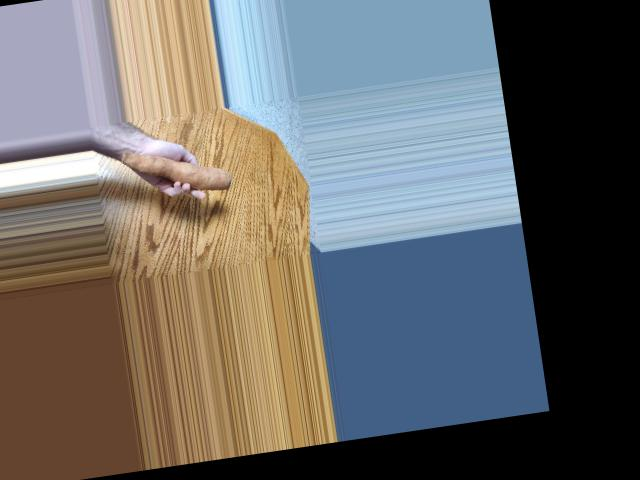sweet_potato: (119, 136, 228, 196)
